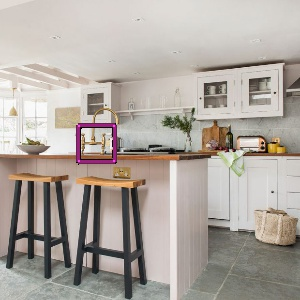square: (74, 121, 120, 166)
